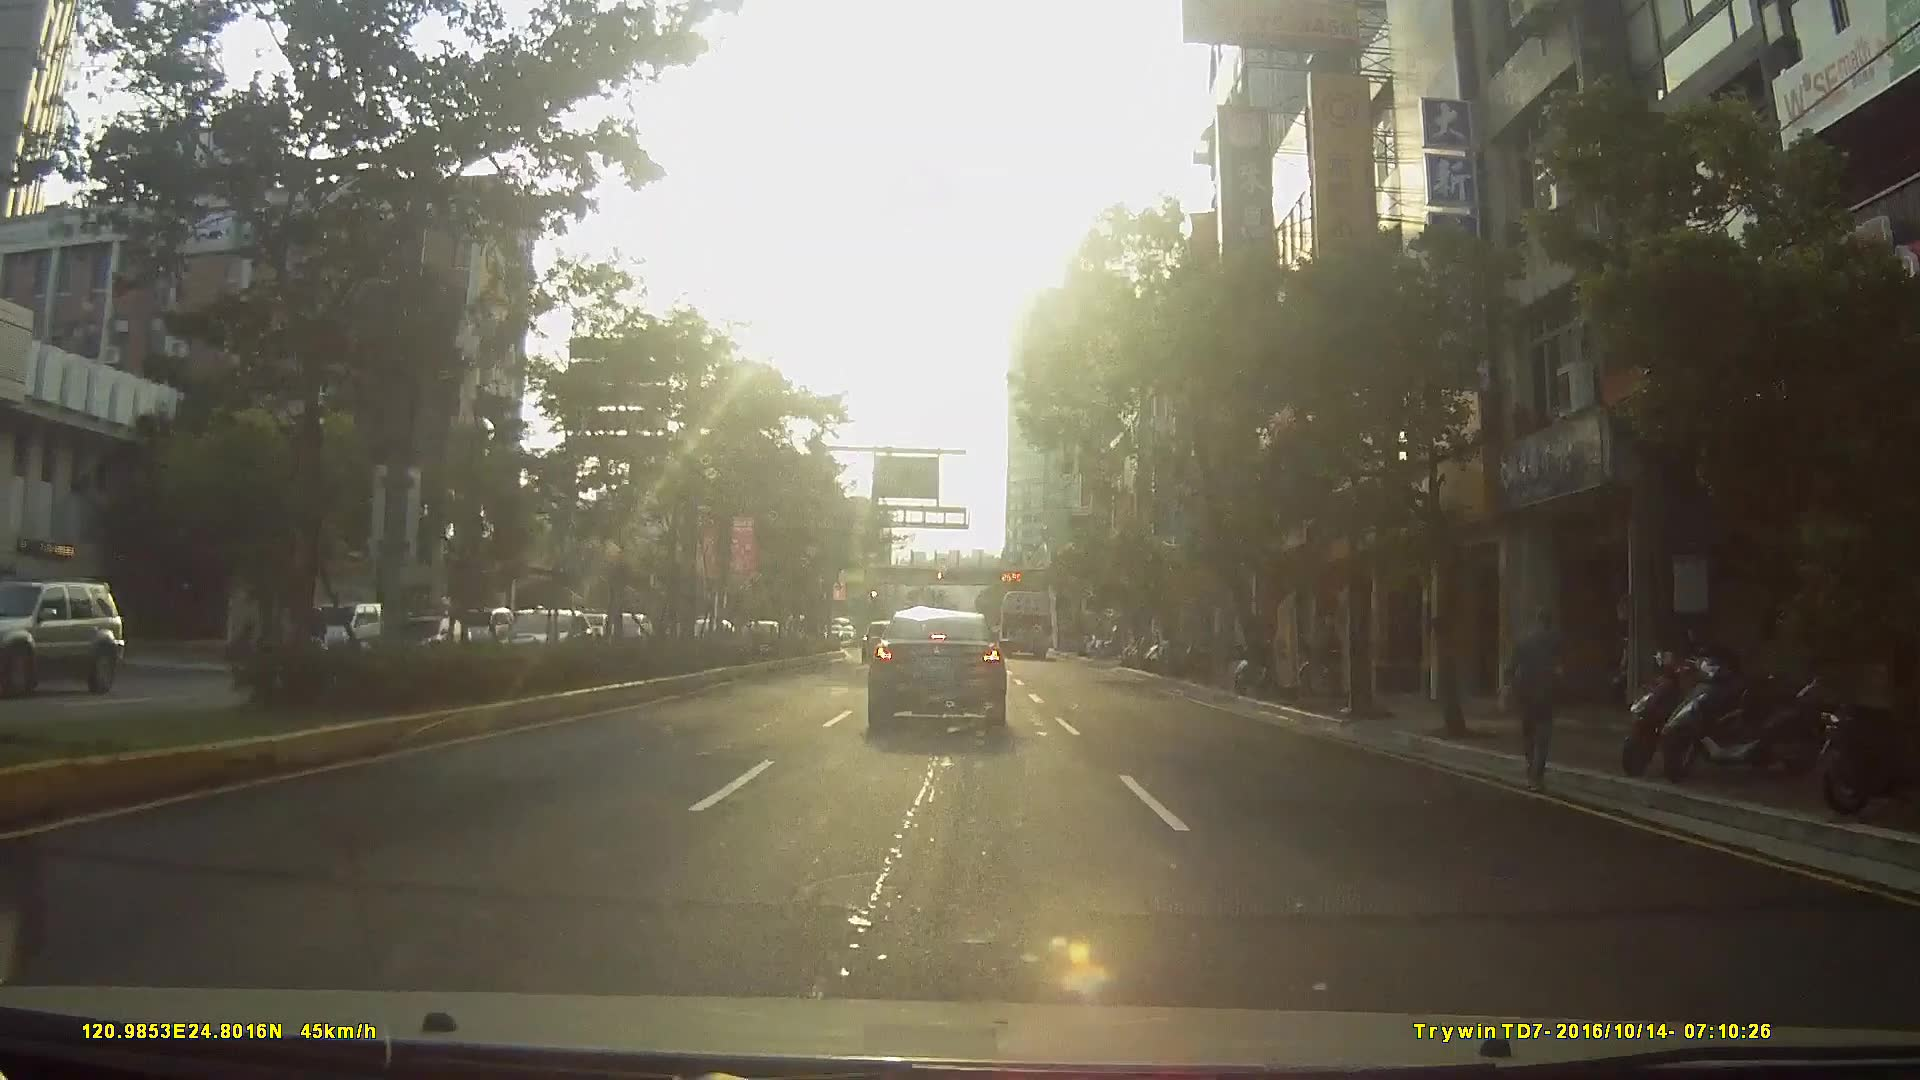pedestrian: (1512, 606, 1574, 794)
vehicle: (1, 576, 132, 712), (865, 609, 1008, 732), (290, 600, 387, 662), (996, 590, 1053, 657)
